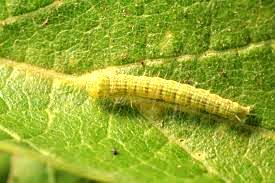Caterpillar: (90, 70, 253, 129)
